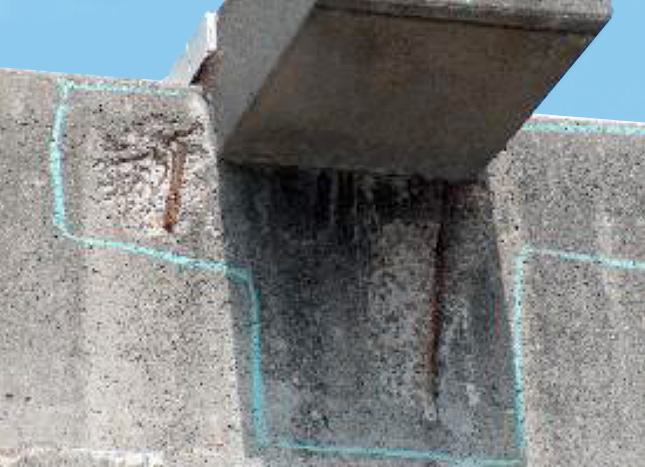Exposed reinforcement: (428, 181, 451, 402), (162, 140, 188, 233)
